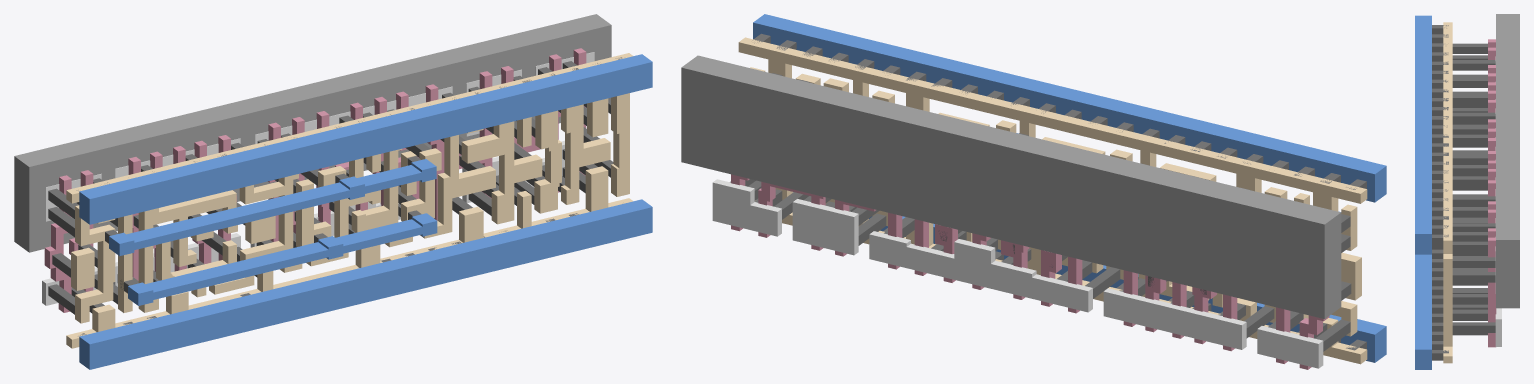
The model's file is sky130_fd_sc_hd__sdfxbp_1.gds.gltf.
The picture shows the model from 3 angles, left to right: view 1: azimuth 30°, elevation 25°; view 2: azimuth 150°, elevation 25°; view 3: azimuth 270°, elevation 25°; orthographic projection. The views are drawn at different scales.
Parts seen in each view (by area): view 1: sky130_fd_sc_hd__sdfxbp_1_met1, sky130_fd_sc_hd__sdfxbp_1_li1, sky130_fd_sc_hd__sdfxbp_1_nwell, sky130_fd_sc_hd__sdfxbp_1_poly, sky130_fd_sc_hd__sdfxbp_1_licon, sky130_fd_sc_hd__sdfxbp_1_diff, sky130_fd_sc_hd__sdfxbp_1_mcon; view 2: sky130_fd_sc_hd__sdfxbp_1_nwell, sky130_fd_sc_hd__sdfxbp_1_li1, sky130_fd_sc_hd__sdfxbp_1_diff, sky130_fd_sc_hd__sdfxbp_1_met1, sky130_fd_sc_hd__sdfxbp_1_poly, sky130_fd_sc_hd__sdfxbp_1_licon, sky130_fd_sc_hd__sdfxbp_1_mcon; view 3: sky130_fd_sc_hd__sdfxbp_1_licon, sky130_fd_sc_hd__sdfxbp_1_nwell, sky130_fd_sc_hd__sdfxbp_1_met1, sky130_fd_sc_hd__sdfxbp_1_mcon, sky130_fd_sc_hd__sdfxbp_1_li1, sky130_fd_sc_hd__sdfxbp_1_poly, sky130_fd_sc_hd__sdfxbp_1_diff.
Part boxes in pixels (x1=…): sky130_fd_sc_hd__sdfxbp_1_met1: x1=79, y1=54, x2=652, y2=369; sky130_fd_sc_hd__sdfxbp_1_li1: x1=66, y1=53, x2=633, y2=348; sky130_fd_sc_hd__sdfxbp_1_nwell: x1=14, y1=14, x2=611, y2=252; sky130_fd_sc_hd__sdfxbp_1_poly: x1=44, y1=48, x2=586, y2=312; sky130_fd_sc_hd__sdfxbp_1_licon: x1=48, y1=61, x2=613, y2=314; sky130_fd_sc_hd__sdfxbp_1_diff: x1=42, y1=52, x2=594, y2=305; sky130_fd_sc_hd__sdfxbp_1_mcon: x1=76, y1=57, x2=622, y2=336; sky130_fd_sc_hd__sdfxbp_1_nwell: x1=681, y1=55, x2=1341, y2=318; sky130_fd_sc_hd__sdfxbp_1_li1: x1=738, y1=37, x2=1367, y2=364; sky130_fd_sc_hd__sdfxbp_1_diff: x1=712, y1=179, x2=1323, y2=368; sky130_fd_sc_hd__sdfxbp_1_met1: x1=753, y1=14, x2=1386, y2=362; sky130_fd_sc_hd__sdfxbp_1_poly: x1=731, y1=174, x2=1329, y2=369; sky130_fd_sc_hd__sdfxbp_1_licon: x1=730, y1=73, x2=1351, y2=351; sky130_fd_sc_hd__sdfxbp_1_mcon: x1=752, y1=33, x2=1366, y2=350; sky130_fd_sc_hd__sdfxbp_1_licon: x1=1452, y1=43, x2=1495, y2=335; sky130_fd_sc_hd__sdfxbp_1_nwell: x1=1496, y1=14, x2=1519, y2=308; sky130_fd_sc_hd__sdfxbp_1_met1: x1=1415, y1=15, x2=1431, y2=369; sky130_fd_sc_hd__sdfxbp_1_mcon: x1=1432, y1=25, x2=1448, y2=360; sky130_fd_sc_hd__sdfxbp_1_li1: x1=1443, y1=22, x2=1452, y2=363; sky130_fd_sc_hd__sdfxbp_1_poly: x1=1488, y1=39, x2=1496, y2=347; sky130_fd_sc_hd__sdfxbp_1_diff: x1=1495, y1=56, x2=1501, y2=346.
Size of the model in its own units: 11.42 by 3.2 by 2.24.
